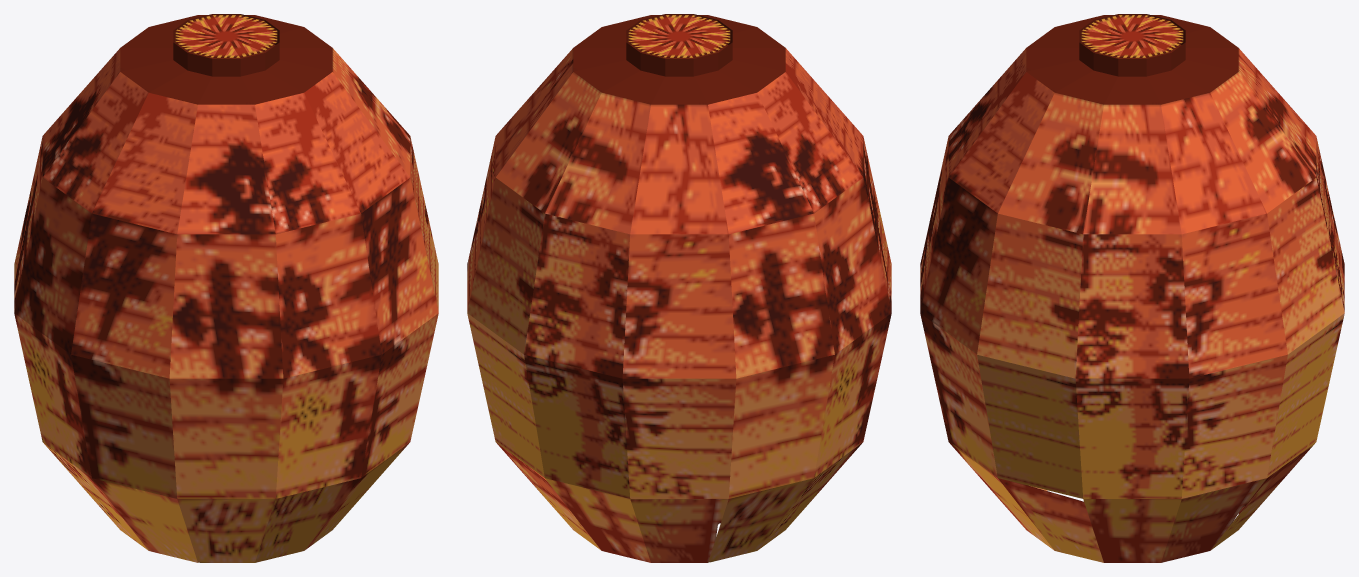
File: chinatownlantern.fbx
The picture shows the model from 3 angles, left to right: view 1: azimuth 30°, elevation 25°; view 2: azimuth 150°, elevation 25°; view 3: azimuth 270°, elevation 25°; orthographic projection.
Parts seen in each view (by area): view 1: sphere, cylinder; view 2: sphere, cylinder; view 3: sphere, cylinder.
Part boxes in pixels (box(x1,y1,x2,y2)): sphere: box(14, 15, 438, 562); cylinder: box(173, 14, 279, 76); sphere: box(467, 15, 891, 562); cylinder: box(626, 14, 732, 76); sphere: box(920, 15, 1344, 562); cylinder: box(1079, 14, 1185, 76).
Size of the model in its own units: 50 by 62.58 by 50.
Materials: 1 (1 with a texture image).
